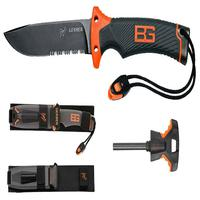knife: (3, 6, 195, 73)
